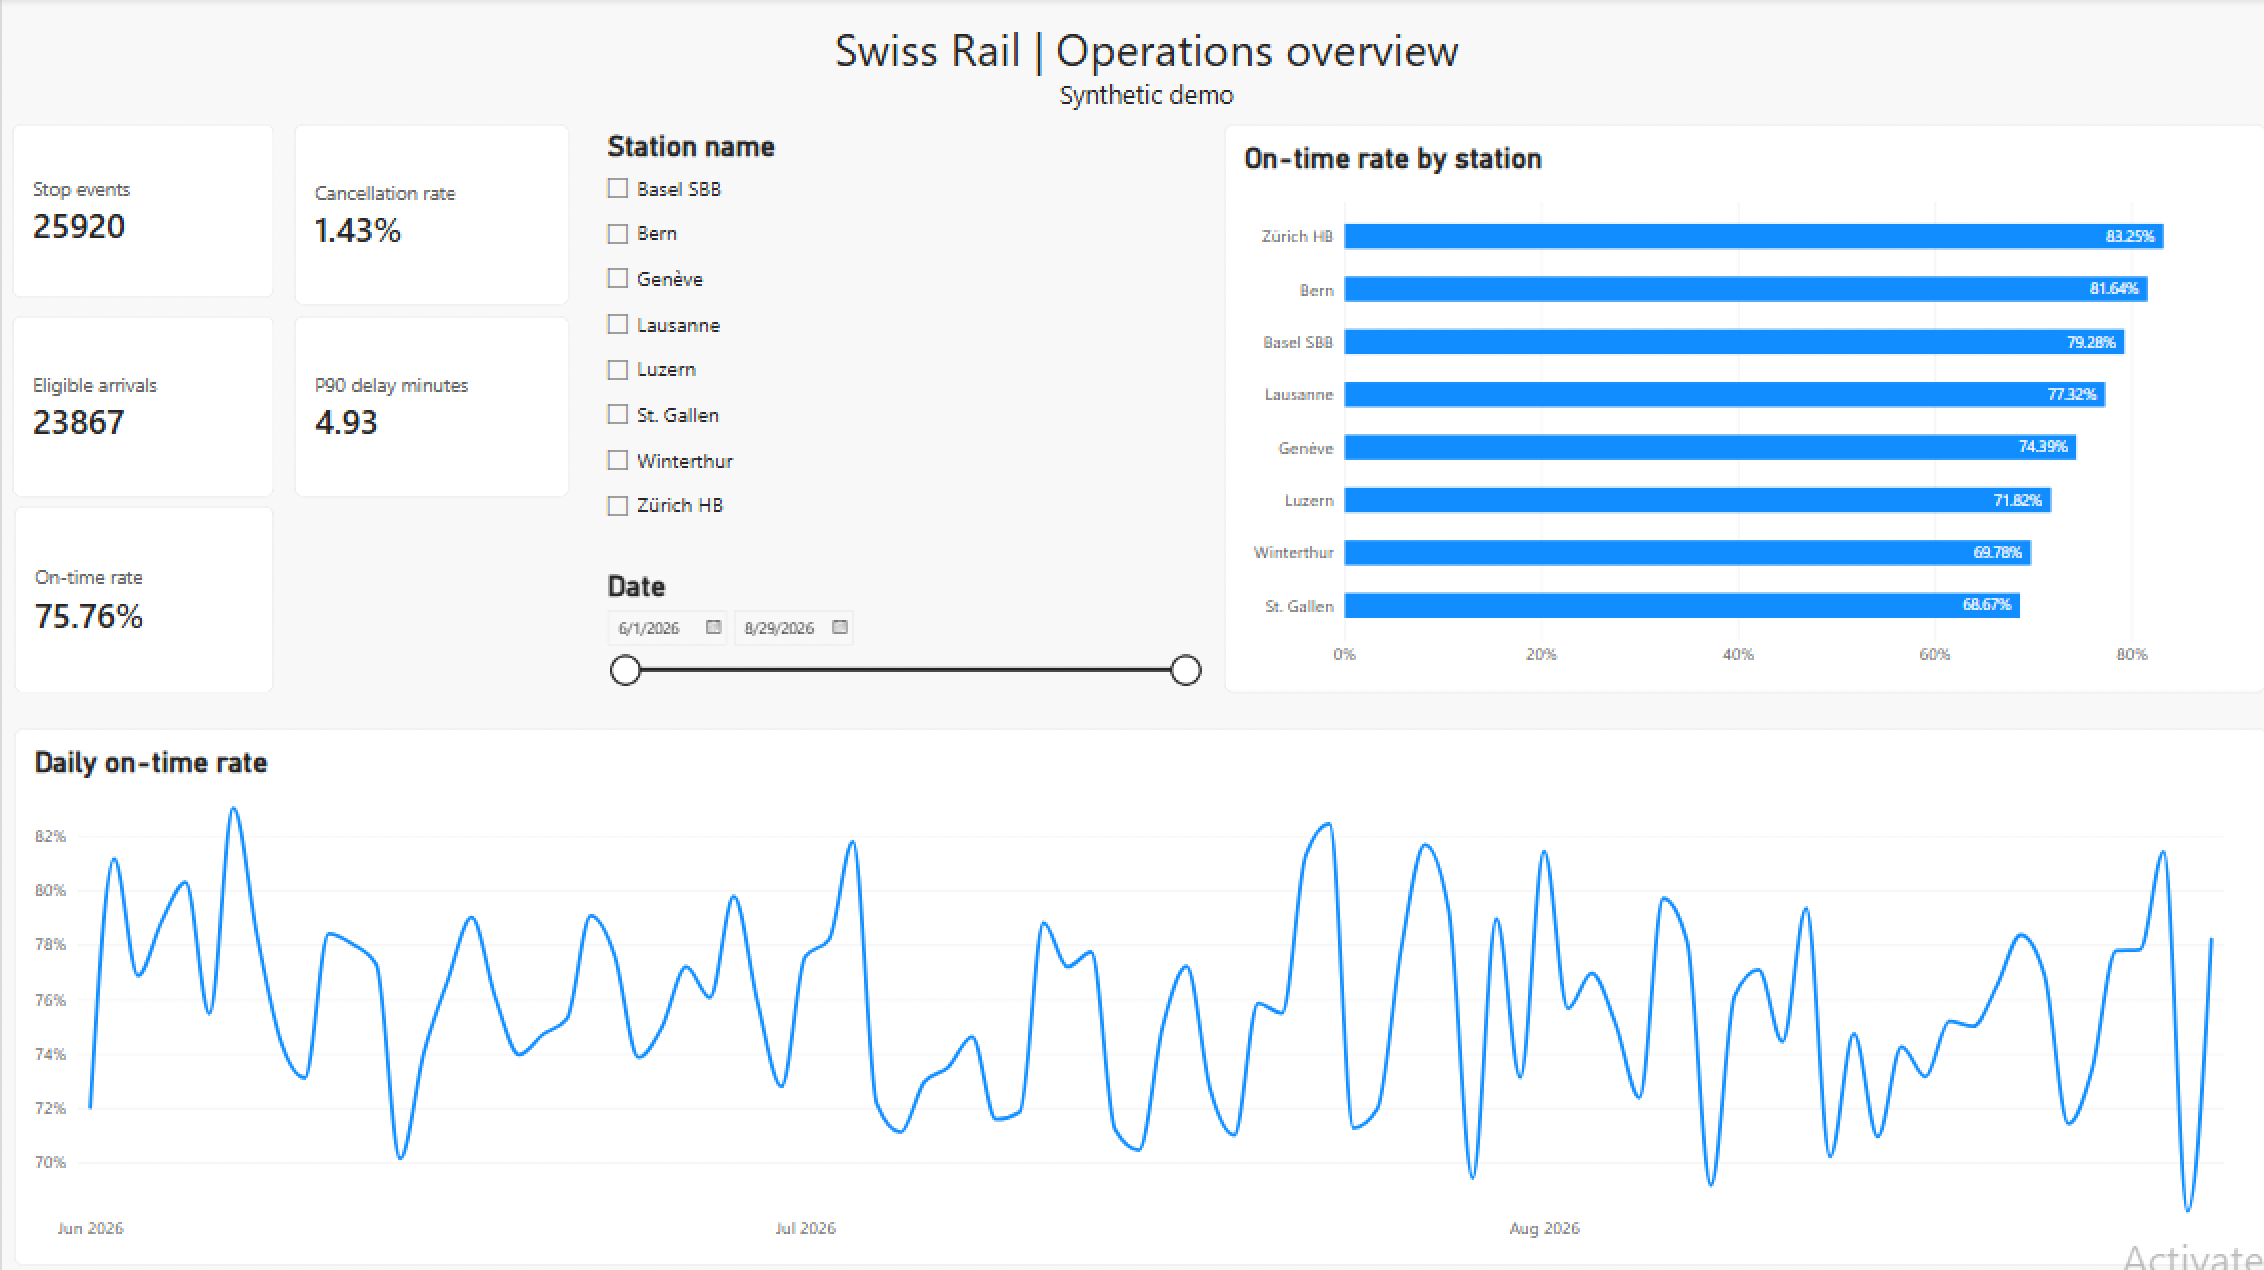

This screenshot's page, from the dashboard's own definition file:
{"tool":"powerbi","page":{"name":"Operations overview","canvas":[1920,1080],"ordinal":0},"visuals":[{"type":"cardVisual","fields":{"Data":["fct_stop_event.Stop events"]},"box":[7.6,106.5,220.5,146.4],"z":0},{"type":"cardVisual","fields":{"Data":["fct_stop_event.Eligible arrivals"]},"box":[7.6,266.1,220.5,152.1],"z":1000},{"type":"cardVisual","fields":{"Data":["fct_stop_event.On-time rate"]},"box":[9.5,425.8,218.6,157.8],"z":2000},{"type":"slicer","fields":{"Values":["dim_station.station_name"]},"box":[500,110.3,509.5,336.5],"z":3000},{"type":"slicer","fields":{"Values":["dim_date.date_id"]},"box":[500,479,509.5,271.8],"z":4000},{"type":"clusteredBarChart","title":"On-time rate by station","fields":{"Category":["dim_station.station_name"],"Y":["fct_stop_event.On-time rate"]},"box":[1024.6,106.5,874.5,477.1],"z":5000},{"type":"lineChart","title":"Daily on-time rate","fields":{"Category":["dim_date.date_id.Variation.Date Hierarchy.Year","dim_date.date_id.Variation.Date Hierarchy.Quarter","dim_date.date_id.Variation.Date Hierarchy.Month","dim_date.date_id.Variation.Date Hierarchy.Day"],"Y":["fct_stop_event.On-time rate"]},"box":[9.5,612.1,1889.6,450.5],"z":6000},{"type":"textbox","box":[0,17.1,1920,116],"z":7000},{"type":"cardVisual","fields":{"Data":["fct_stop_event.Cancellation rate"]},"box":[245.2,106.5,231.9,152.1],"z":7001},{"type":"cardVisual","fields":{"Data":["fct_stop_event.P90 delay minutes"]},"box":[245.2,266.1,231.9,152.1],"z":7002}]}

Visuals, with their boxes in screenshot pixels (x1, y1, x2, y2), scaled from the page's 1920x1080 canvas onto the 2264x1270 screenshot:
cardVisual - fct_stop_event.Stop events: locate(9, 125, 269, 297)
cardVisual - fct_stop_event.Eligible arrivals: locate(9, 313, 269, 492)
cardVisual - fct_stop_event.On-time rate: locate(11, 501, 269, 686)
slicer - dim_station.station_name: locate(590, 130, 1190, 525)
slicer - dim_date.date_id: locate(590, 563, 1190, 883)
"On-time rate by station" clusteredBarChart: locate(1208, 125, 2239, 686)
"Daily on-time rate" lineChart: locate(11, 720, 2239, 1250)
textbox: locate(0, 20, 2263, 157)
cardVisual - fct_stop_event.Cancellation rate: locate(289, 125, 563, 304)
cardVisual - fct_stop_event.P90 delay minutes: locate(289, 313, 563, 492)
